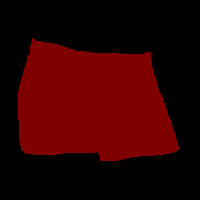mutande: (17, 37, 179, 161)
